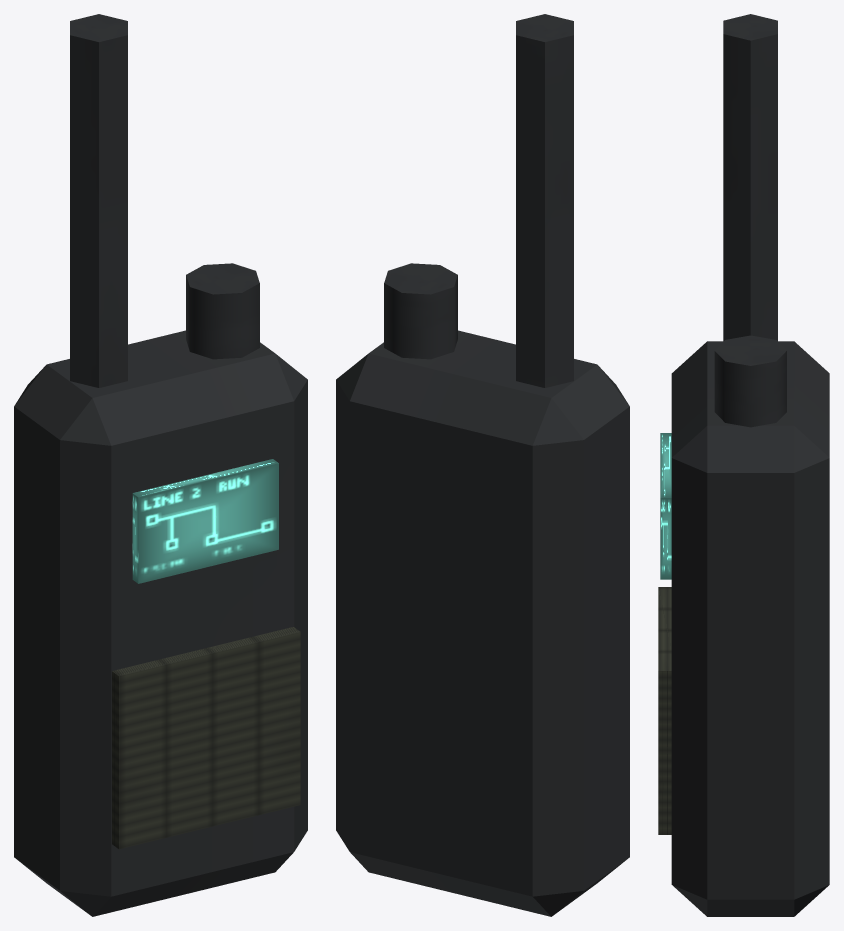
The model's file is radio_officer.fbx.
The picture shows the model from 3 angles, left to right: view 1: azimuth 30°, elevation 25°; view 2: azimuth 150°, elevation 25°; view 3: azimuth 270°, elevation 25°; orthographic projection. The views are drawn at different scales.
Visible parts, largest first — view 1: radio_officer; view 2: radio_officer; view 3: radio_officer.
Boxes of the visible parts, <box> form: radio_officer: <box>14,14,307,916</box>; radio_officer: <box>336,14,629,916</box>; radio_officer: <box>658,14,829,916</box>.
Bounding box in the file's own units: 0.06 × 0.2 × 0.038.
1 material, 1 textured.
